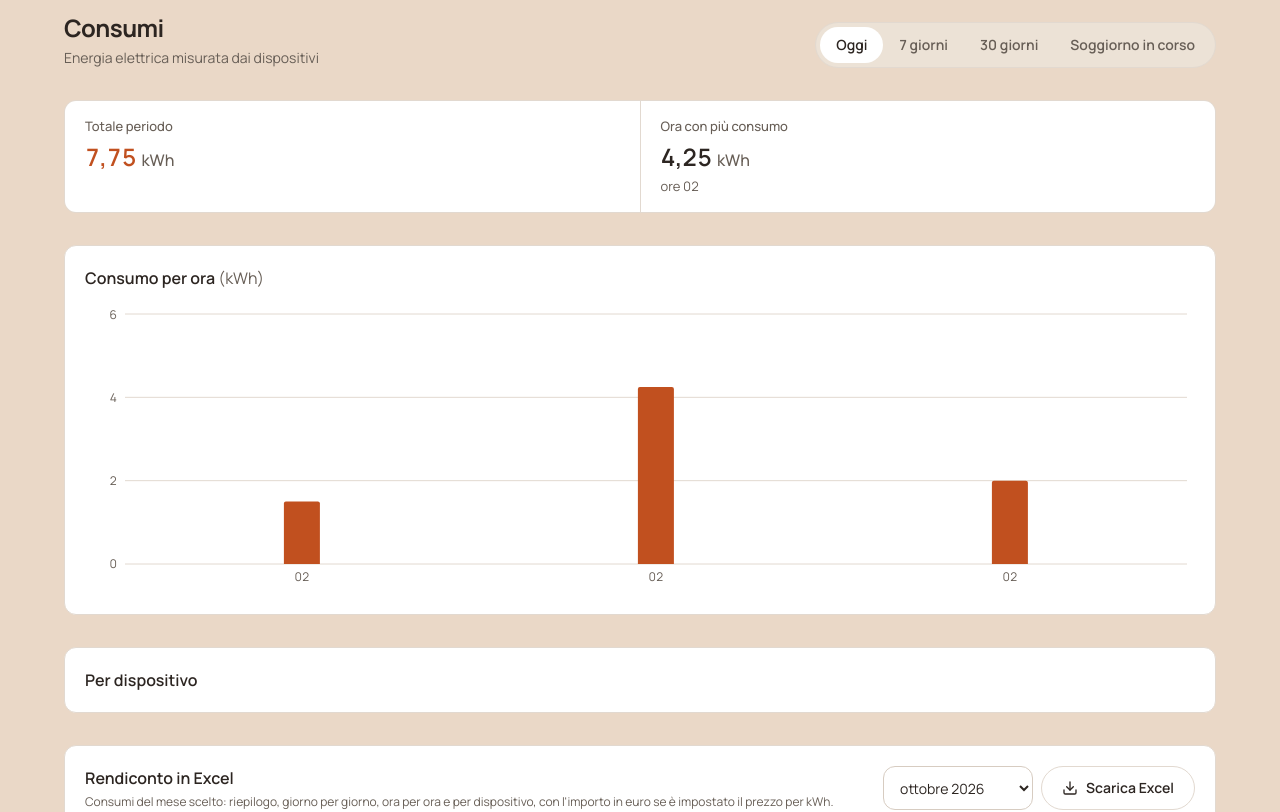
Test: Consumi: striscia degli indicatori (design, lotto 2) › soggiorno in corso: il confronto è una riga, in rosso solo se peggiora
This screenshot has width=1280, height=812.
Expected: the element with test id "energy-total" is shown, [65, 101, 640, 212]
Click the tab with test id "energy-period-stay" at coordinates (1133, 45), box [1054, 27, 1211, 63]
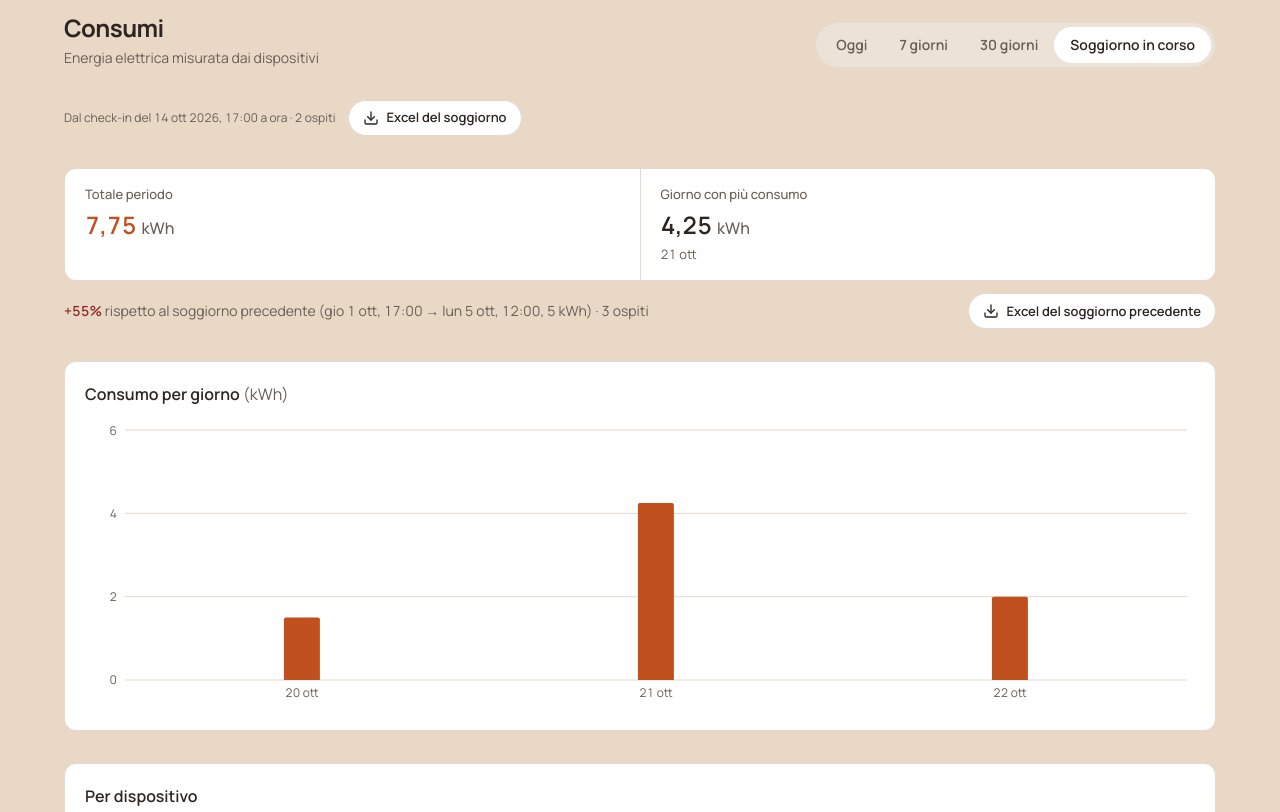
Expected: the text with test id "energy-stay-delta" reads "+55%", [64, 301, 102, 320]
Expected: the button with test id "energy-export-previous-stay" reads "Excel del soggiorno precedente", [968, 293, 1216, 329]
